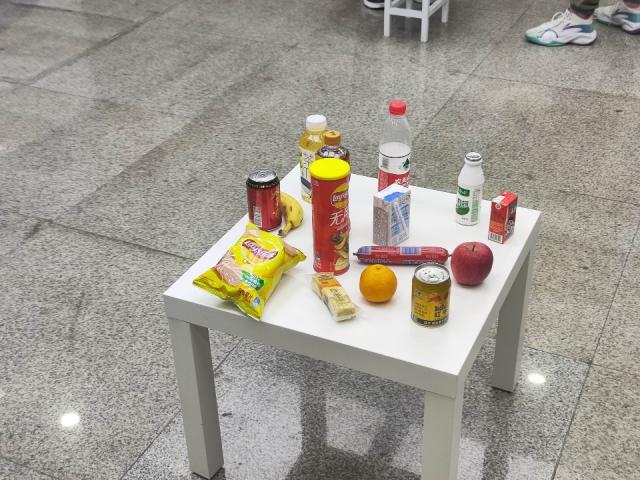Canned_drinks: (409, 262, 454, 331), (246, 166, 283, 230)
bottle: (452, 150, 484, 226)
cylinder: (310, 158, 350, 273)
drink_box: (372, 183, 411, 246), (490, 188, 518, 244)
